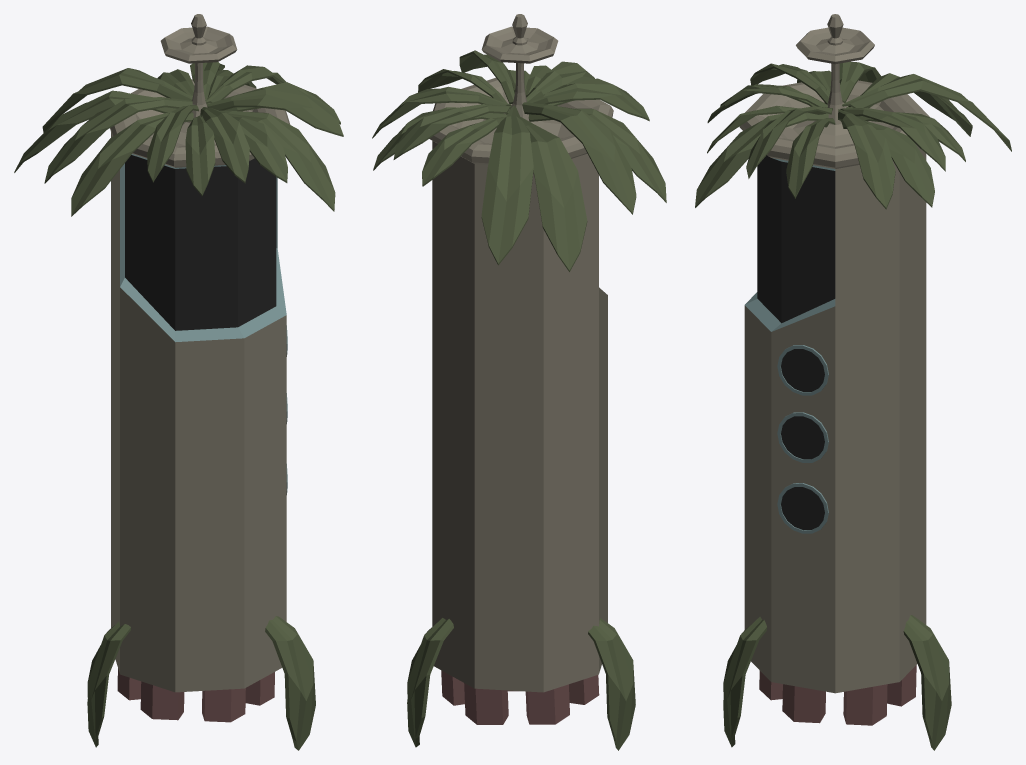
Rendered from Garden_Rocket_v1.fbx.
3 renders of one model, left to right at view 1: azimuth 30°, elevation 25°; view 2: azimuth 150°, elevation 25°; view 3: azimuth 270°, elevation 25°, orthographic.
Visible parts, largest first — view 1: Garden_Rocket; view 2: Garden_Rocket; view 3: Garden_Rocket.
Boxes of the visible parts, x1,y1,x2,y2 form: Garden_Rocket: (14, 14, 343, 750); Garden_Rocket: (372, 14, 666, 750); Garden_Rocket: (695, 14, 1011, 750).
Size of the model in its own units: 107 by 281 by 114.
